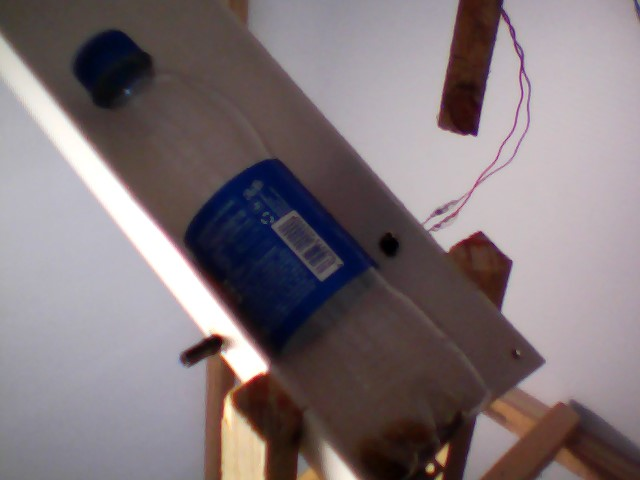plastico: (59, 20, 511, 480)
